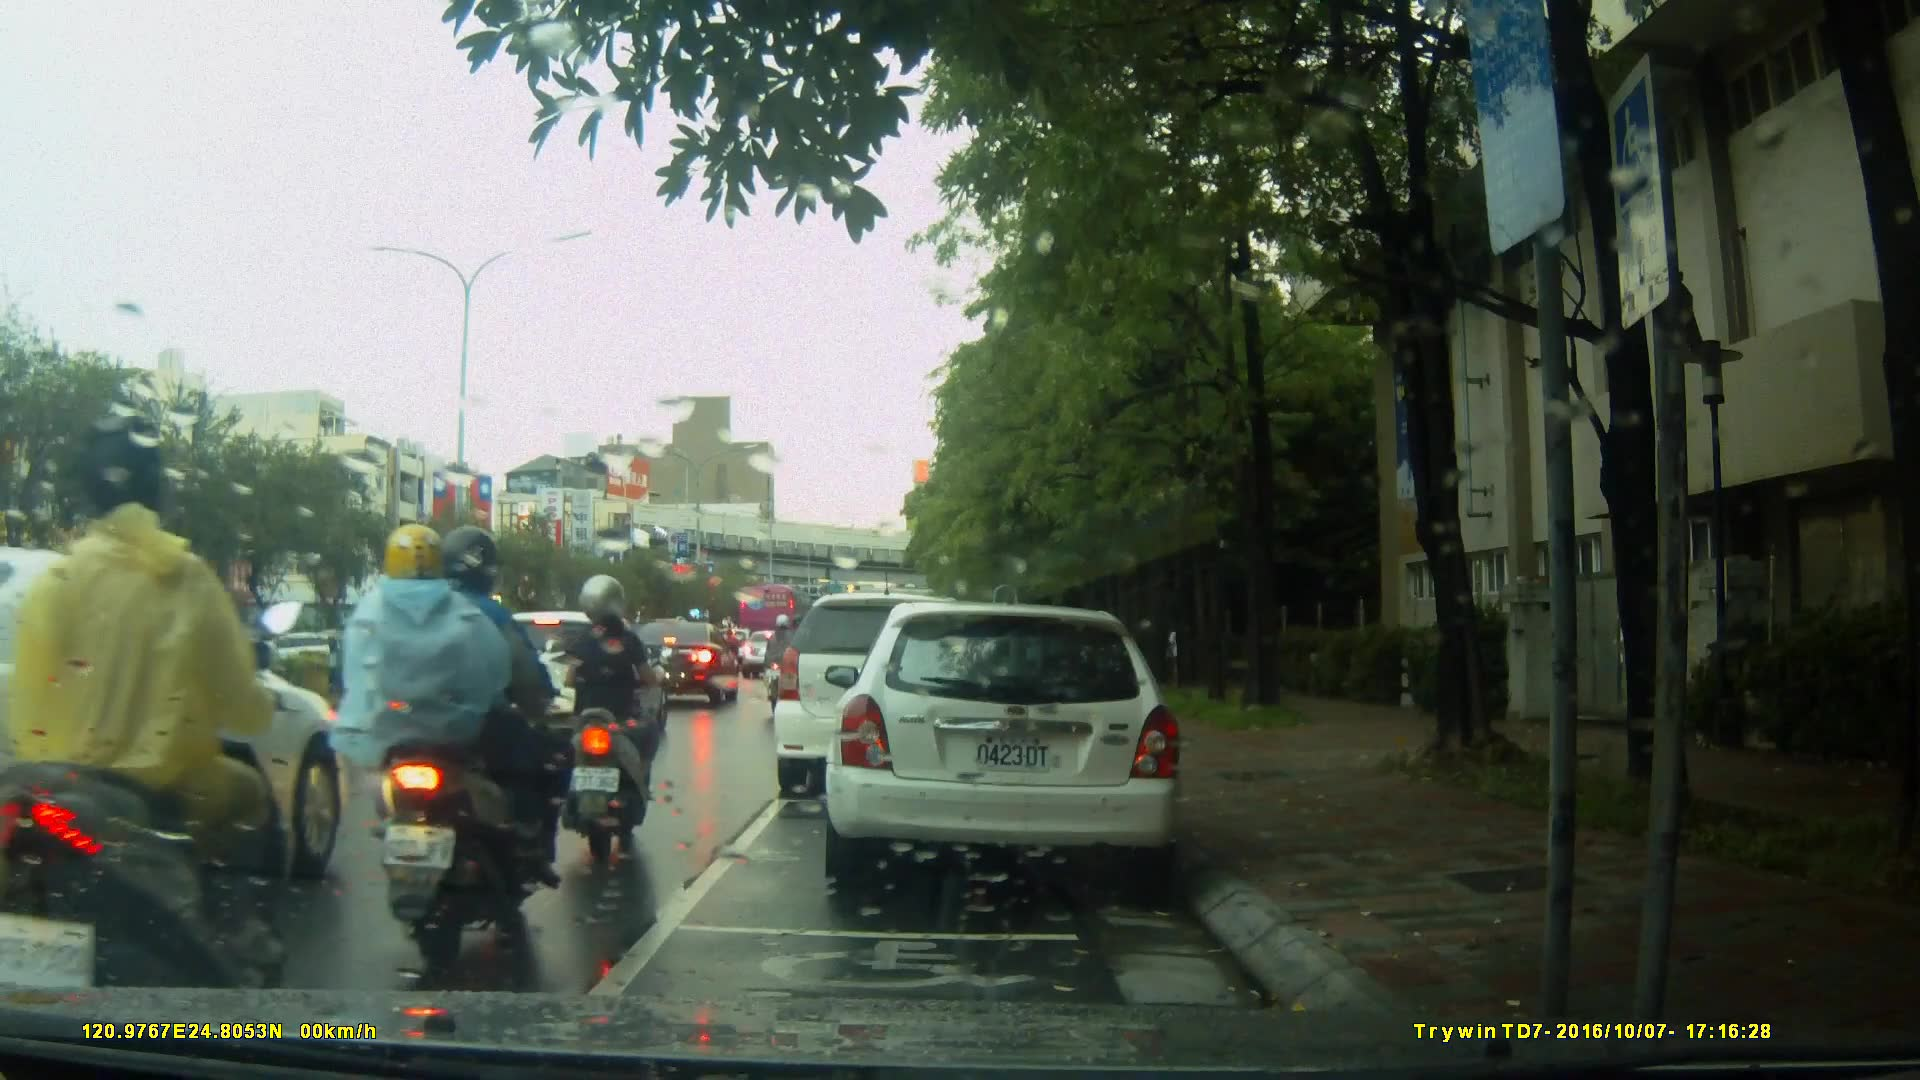rider: (1, 412, 307, 1041), (325, 522, 556, 970), (551, 576, 676, 867), (762, 612, 803, 718)
vehicle: (1, 523, 346, 932), (835, 594, 1194, 898), (776, 590, 1026, 784), (471, 608, 675, 744), (620, 620, 742, 708), (739, 583, 815, 654)
